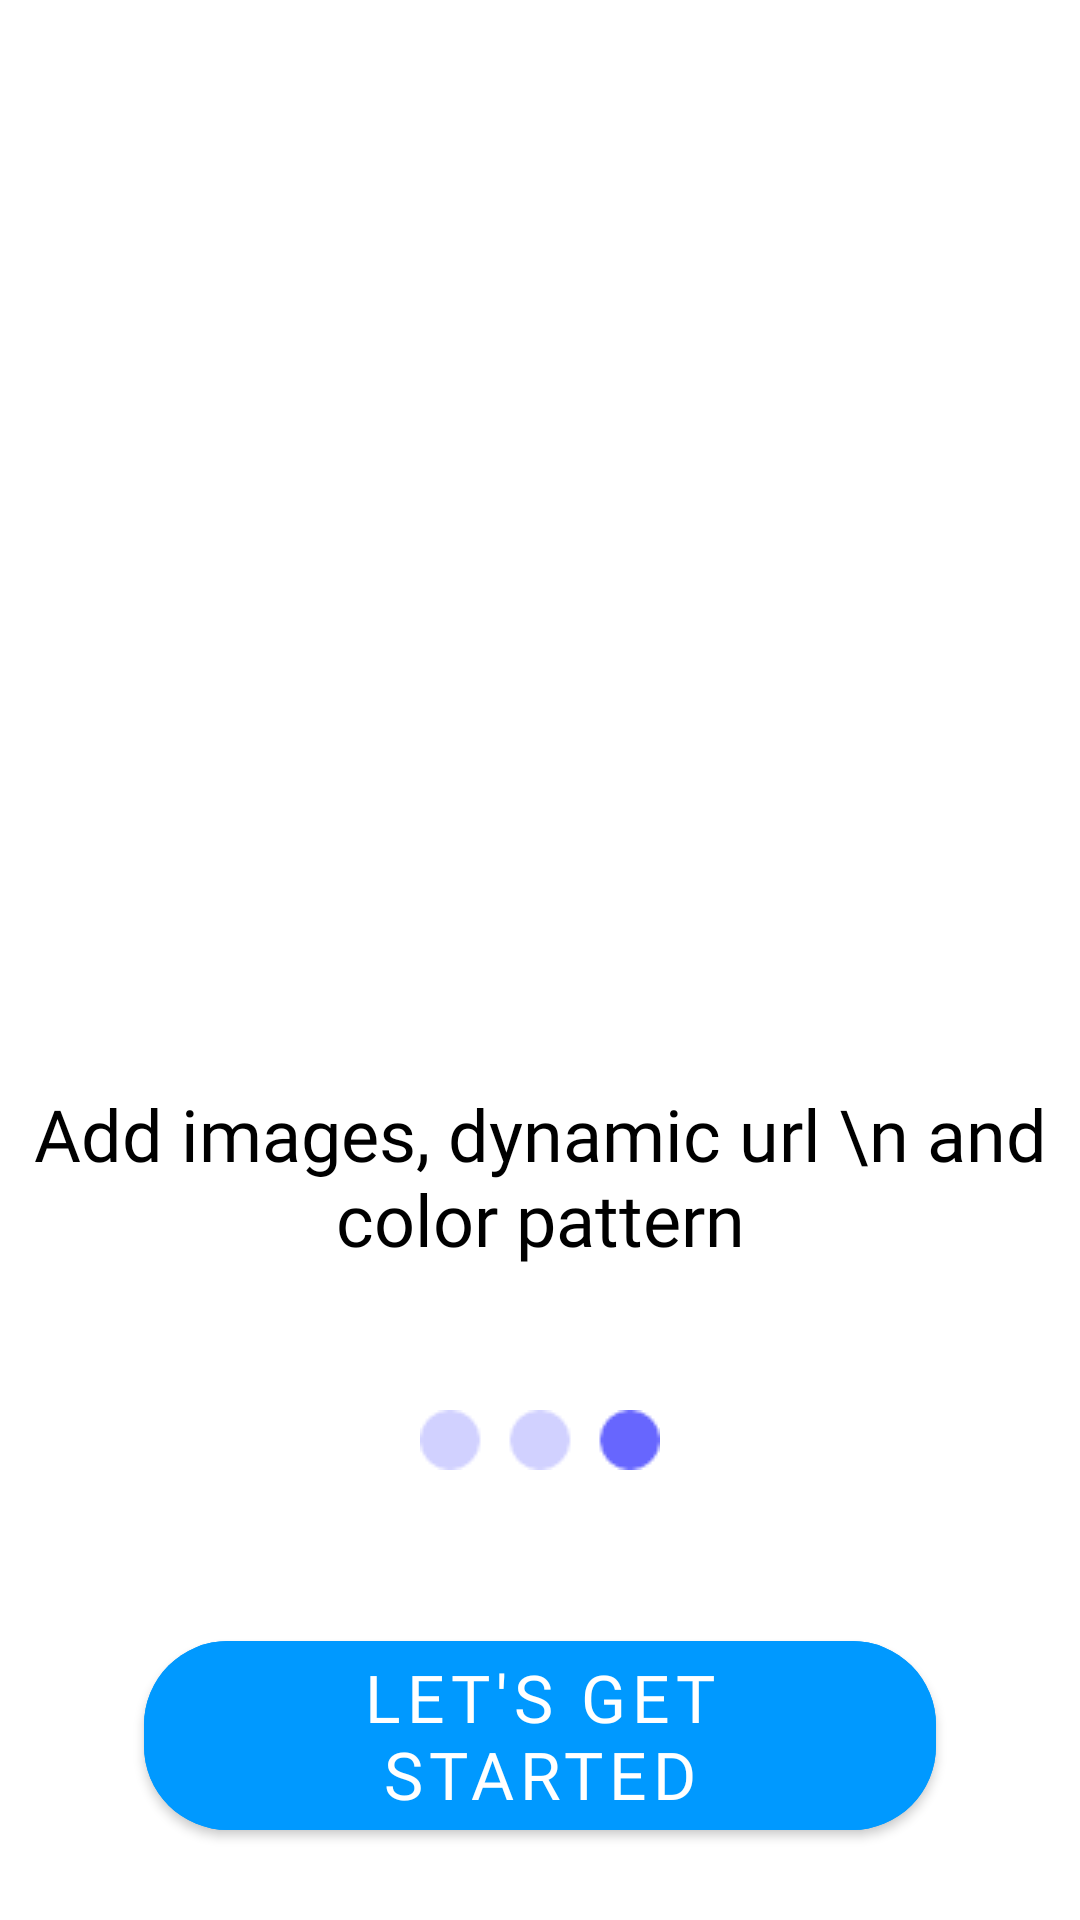

Point at icon controls on the screen. Image size 1080*1920, points as (x,y).
onboarding third dots: (540,1440)
